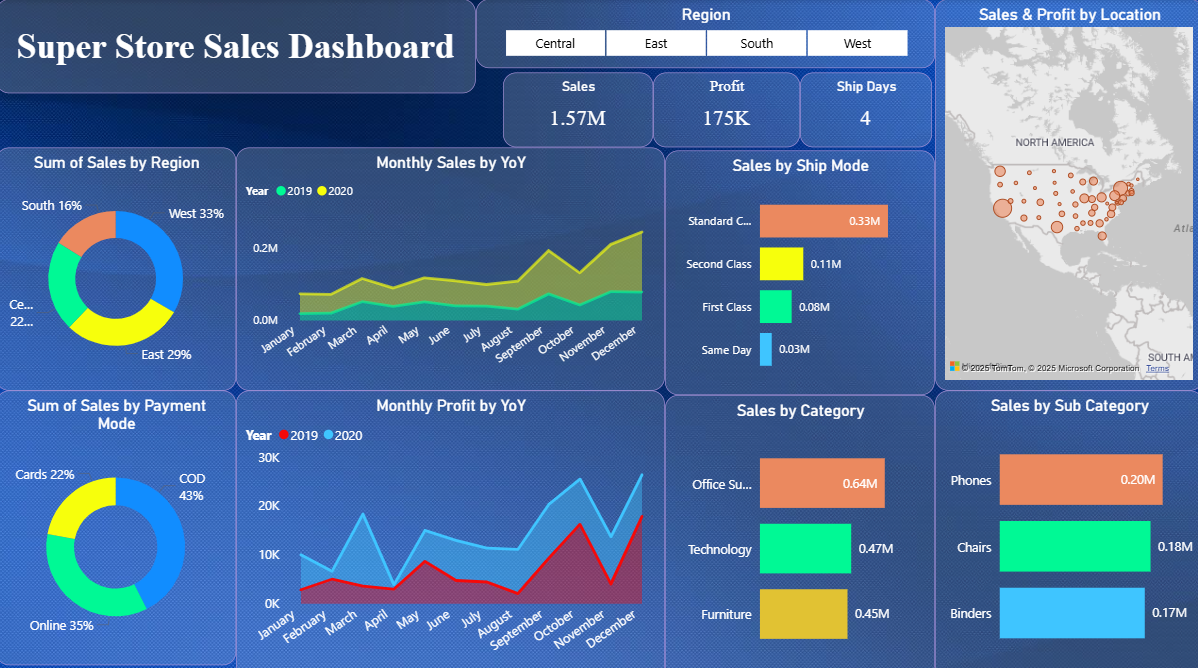

Layout of this report page (visuals, bound fields, positions):
{"tool":"powerbi","page":{"name":"Page 1","canvas":[1280,720],"ordinal":0},"visuals":[{"type":"clusteredBarChart","title":"Sales by Category","fields":{"Category":["SuperStore_Sales_Dataset.Category"],"Y":["Sum(SuperStore_Sales_Dataset.Sales)"]},"box":[709.4,419.9,286.3,300.6],"z":0},{"type":"clusteredBarChart","title":"Sales by Sub Category","fields":{"Category":["SuperStore_Sales_Dataset.Sub-Category"],"Y":["Sum(SuperStore_Sales_Dataset.Sales)"]},"box":[995.7,415.1,284.7,305.4],"z":1000},{"type":"clusteredBarChart","title":"Sales by Ship Mode","fields":{"Y":["Sum(SuperStore_Sales_Dataset.Sales)"],"Category":["SuperStore_Sales_Dataset.Ship Mode"]},"box":[709.4,160.7,286.3,259.3],"z":2000},{"type":"stackedAreaChart","title":"Monthly Sales by YoY","fields":{"Y":["Sum(SuperStore_Sales_Dataset.Sales)"],"Category":["SuperStore_Sales_Dataset.Order Date.Variation.Date Hierarchy.Month","SuperStore_Sales_Dataset.Order Date.Variation.Date Hierarchy.Day"],"Series":["SuperStore_Sales_Dataset.Order Date.Variation.Date Hierarchy.Year"]},"box":[254.5,157.5,454.9,257.7],"z":3000},{"type":"stackedAreaChart","title":"Monthly Profit by YoY","fields":{"Category":["SuperStore_Sales_Dataset.Order Date.Variation.Date Hierarchy.Month","SuperStore_Sales_Dataset.Order Date.Variation.Date Hierarchy.Day"],"Series":["SuperStore_Sales_Dataset.Order Date.Variation.Date Hierarchy.Year"],"Y":["Sum(SuperStore_Sales_Dataset.Profit)"]},"box":[254.5,415.1,454.9,305.4],"z":4000},{"type":"map","title":"Sales & Profit by Location","fields":{"Category":["SuperStore_Sales_Dataset.State"],"Size":["Sum(SuperStore_Sales_Dataset.Sales)"]},"box":[995.7,0,284.7,415.1],"z":5000},{"type":"slicer","title":"Region","fields":{"Values":["SuperStore_Sales_Dataset.Region"]},"box":[509,0,486.7,73.2],"z":6000},{"type":"donutChart","fields":{"Category":["SuperStore_Sales_Dataset.Region"],"Y":["Sum(SuperStore_Sales_Dataset.Sales)"]},"box":[0,157.5,254.5,257.7],"z":7000},{"type":"donutChart","fields":{"Category":["SuperStore_Sales_Dataset.Payment Mode"],"Y":["Sum(SuperStore_Sales_Dataset.Sales)"]},"box":[0,415.1,254.5,291.1],"z":8000},{"type":"textbox","box":[0,0,509,100.2],"z":9000},{"type":"card","title":"Sales","fields":{"Values":["Sum(SuperStore_Sales_Dataset.Sales)"]},"box":[537.6,77.9,159.1,79.5],"z":10000},{"type":"card","title":"Profit","fields":{"Values":["Sum(SuperStore_Sales_Dataset.Profit)"]},"box":[696.7,77.9,155.9,79.5],"z":12000},{"type":"card","title":"Ship Days","fields":{"Values":["Avg(SuperStore_Sales_Dataset.Average Delivery)"]},"box":[852.6,77.9,140,79.5],"z":13000}]}

Visuals, with their boxes in screenshot pixels (x1, y1, x2, y2), scaled from the page's 1280x720 canvas onto the 1198x668 screenshot:
"Sales by Category" clusteredBarChart: locate(664, 390, 932, 667)
"Sales by Sub Category" clusteredBarChart: locate(932, 385, 1197, 667)
"Sales by Ship Mode" clusteredBarChart: locate(664, 149, 932, 390)
"Monthly Sales by YoY" stackedAreaChart: locate(238, 146, 664, 385)
"Monthly Profit by YoY" stackedAreaChart: locate(238, 385, 664, 667)
"Sales & Profit by Location" map: locate(932, 0, 1197, 385)
"Region" slicer: locate(476, 0, 932, 68)
donutChart - SuperStore_Sales_Dataset.Region x Sum(SuperStore_Sales_Dataset.Sales): locate(0, 146, 238, 385)
donutChart - SuperStore_Sales_Dataset.Payment Mode x Sum(SuperStore_Sales_Dataset.Sales): locate(0, 385, 238, 655)
textbox: locate(0, 0, 476, 93)
"Sales" card: locate(503, 72, 652, 146)
"Profit" card: locate(652, 72, 798, 146)
"Ship Days" card: locate(798, 72, 929, 146)
